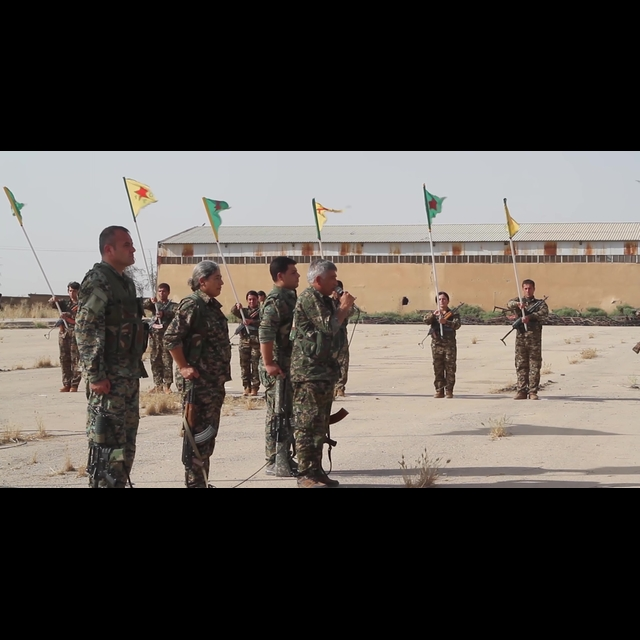AK47: (172, 365, 217, 488)
YPJ: (421, 191, 446, 218)
